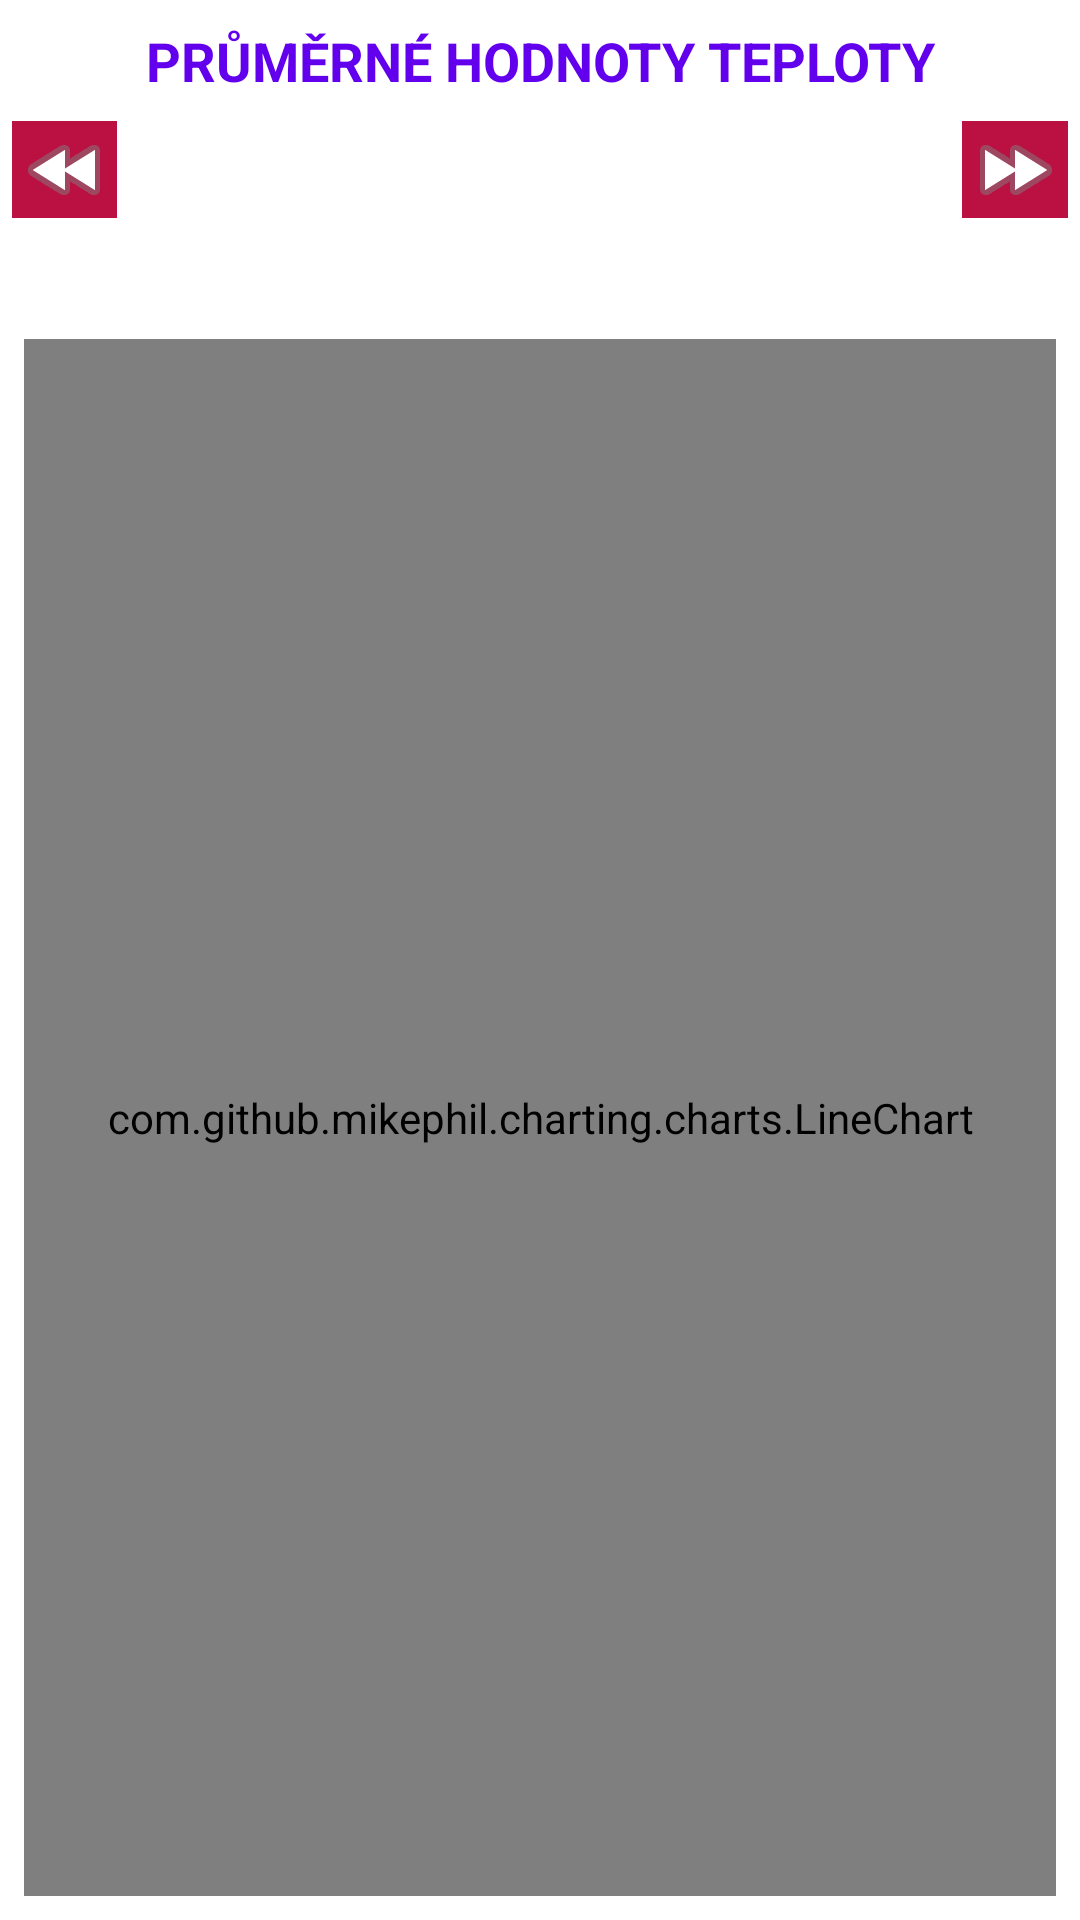

Icons on this 1080w x 1920h Android screen, each with the point to tap as [x,y]:
rew: [64,169]
